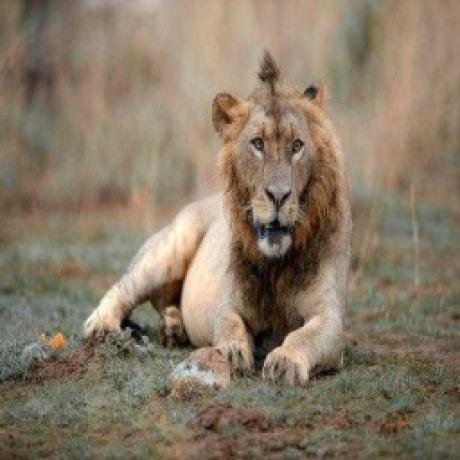Lion: (83, 50, 353, 393)
